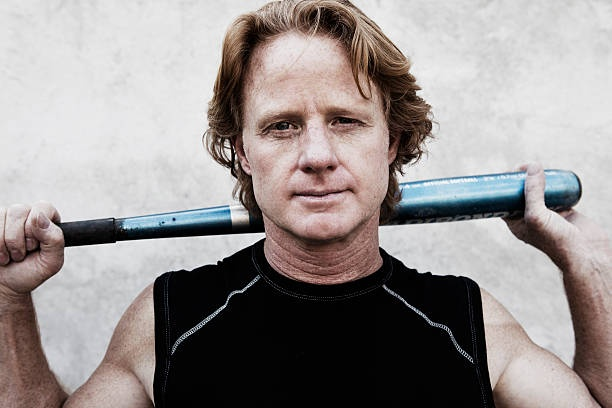bita: (383, 167, 585, 236), (12, 200, 265, 241)
